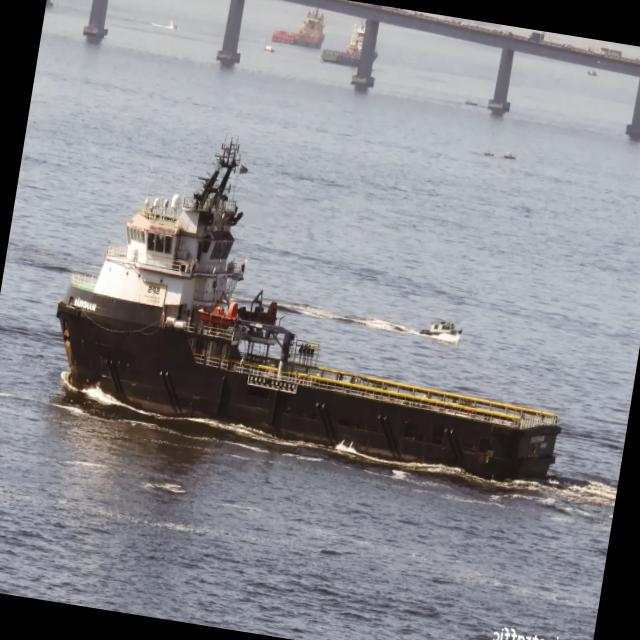Offshore: (57, 140, 560, 479), (272, 10, 325, 49)
